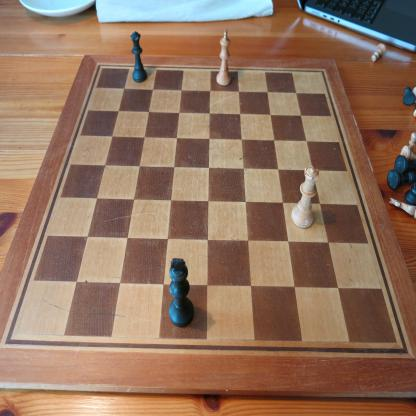black-king: (168, 257, 194, 328)
black-queen: (130, 30, 148, 83)
white-king: (216, 28, 232, 87)
white-knight: (388, 196, 415, 220)
white-pawn: (371, 42, 387, 63)
white-queen: (290, 166, 320, 230)
